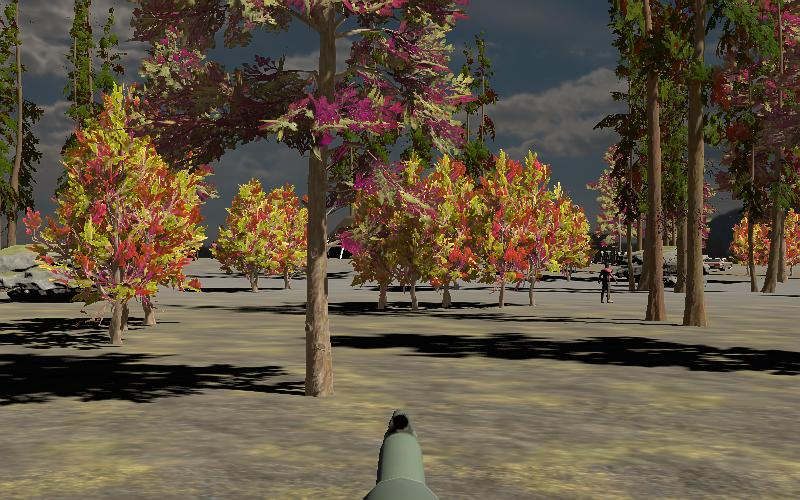Human: (596, 260, 616, 305)
car: (703, 256, 734, 272)
